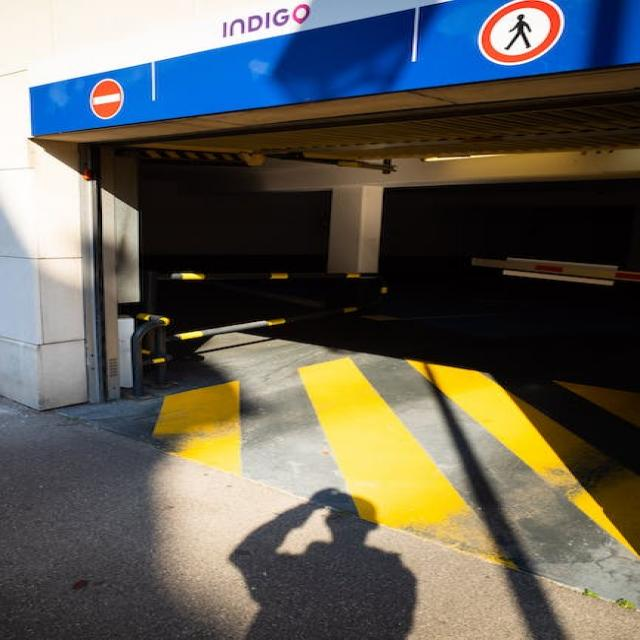no entry: (90, 78, 125, 119)
